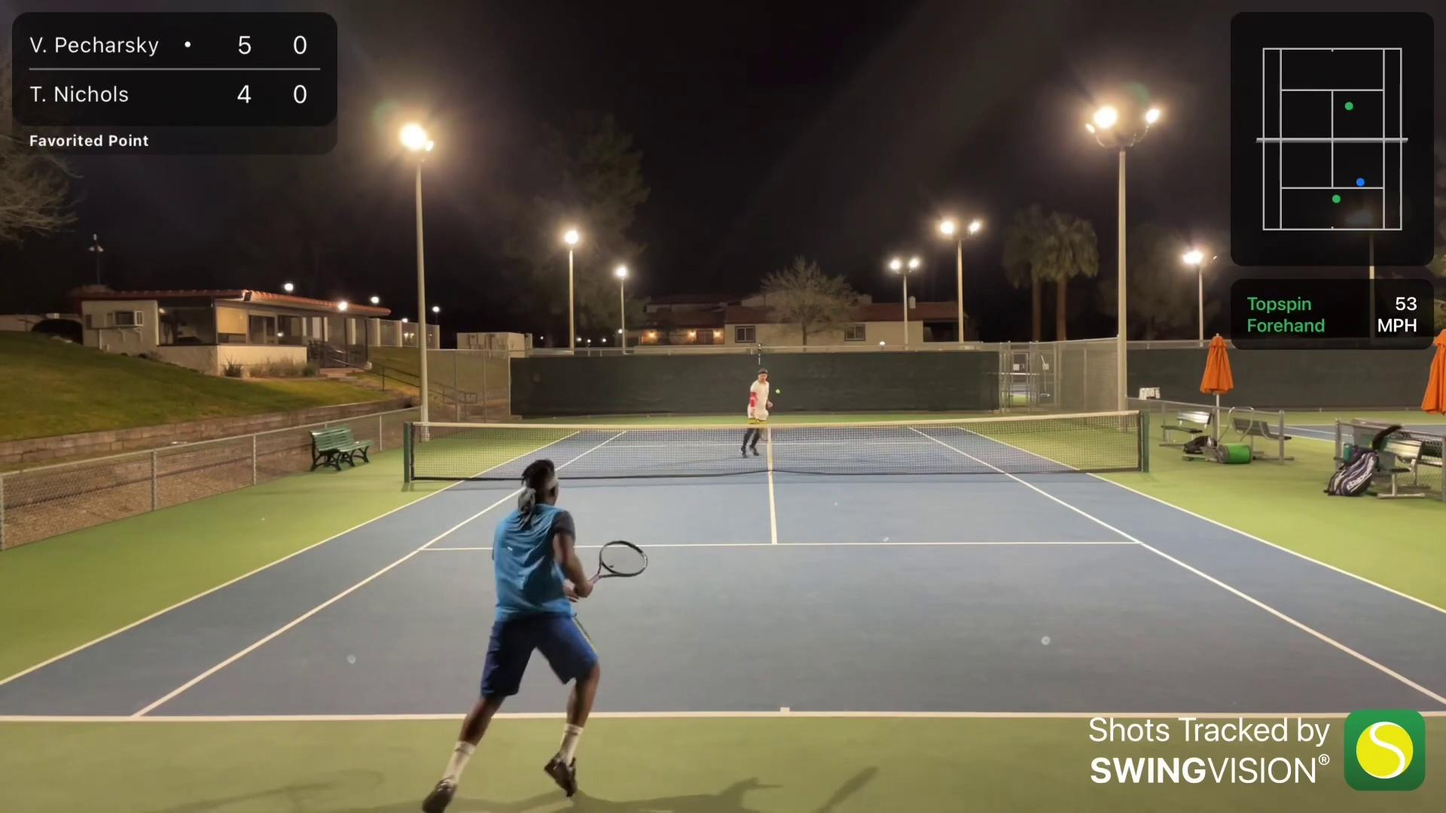ball: (775, 391, 778, 394)
